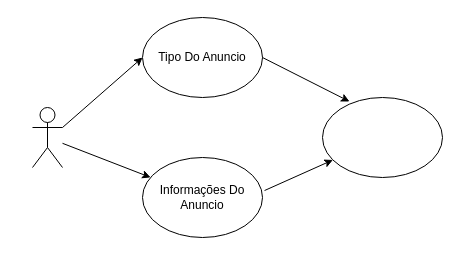
Some shapes in this 460 by 255 pixel diagram are drawn without their labels. Here are the shapes that lost their labels. From the top down, the box of each, then its label:
(32, 106, 62, 168): Anunciante
(322, 96, 442, 178): Cadastrar Anuncio
